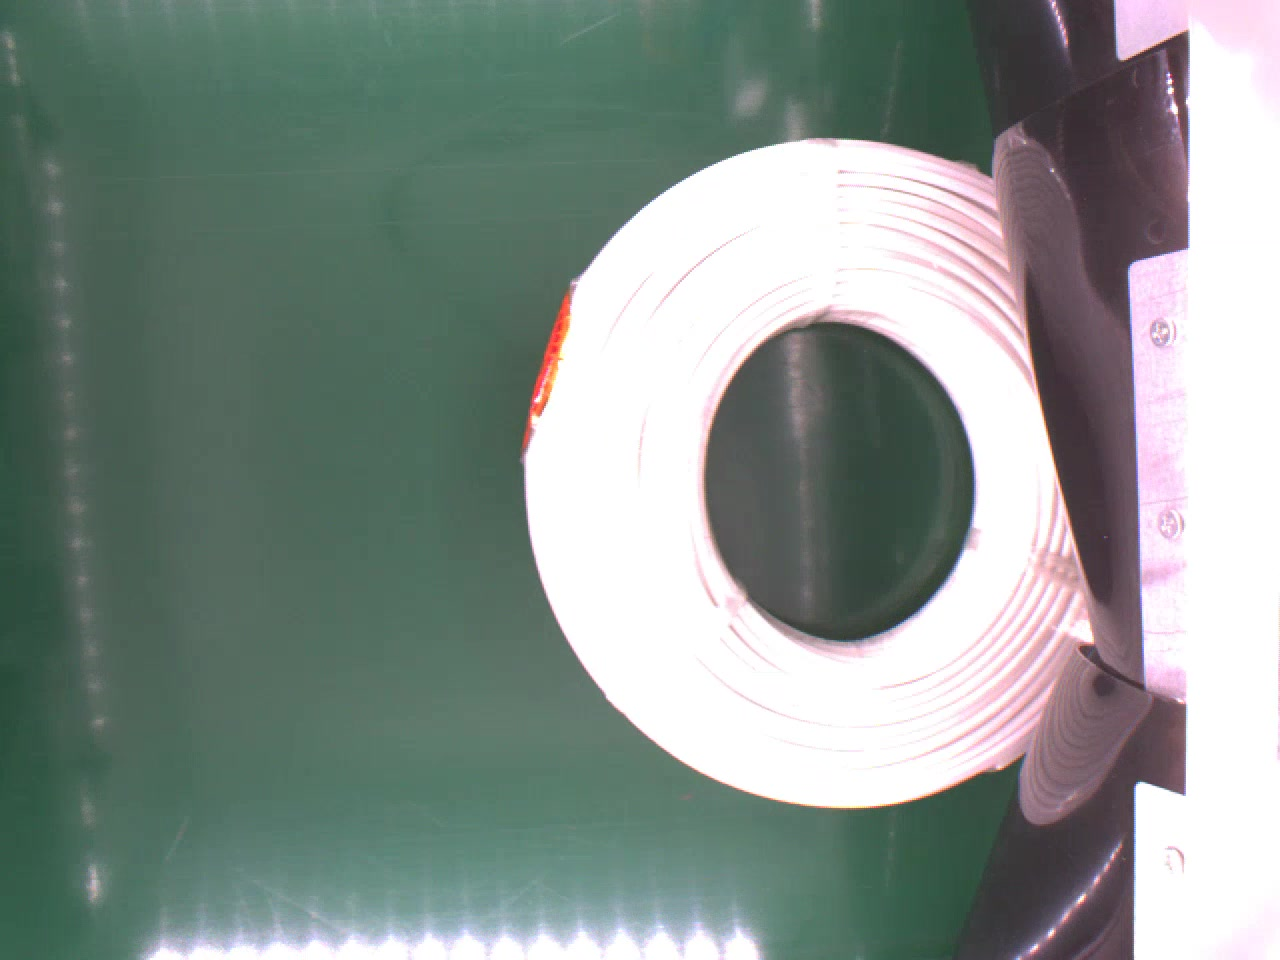white: (517, 134, 1098, 821)
